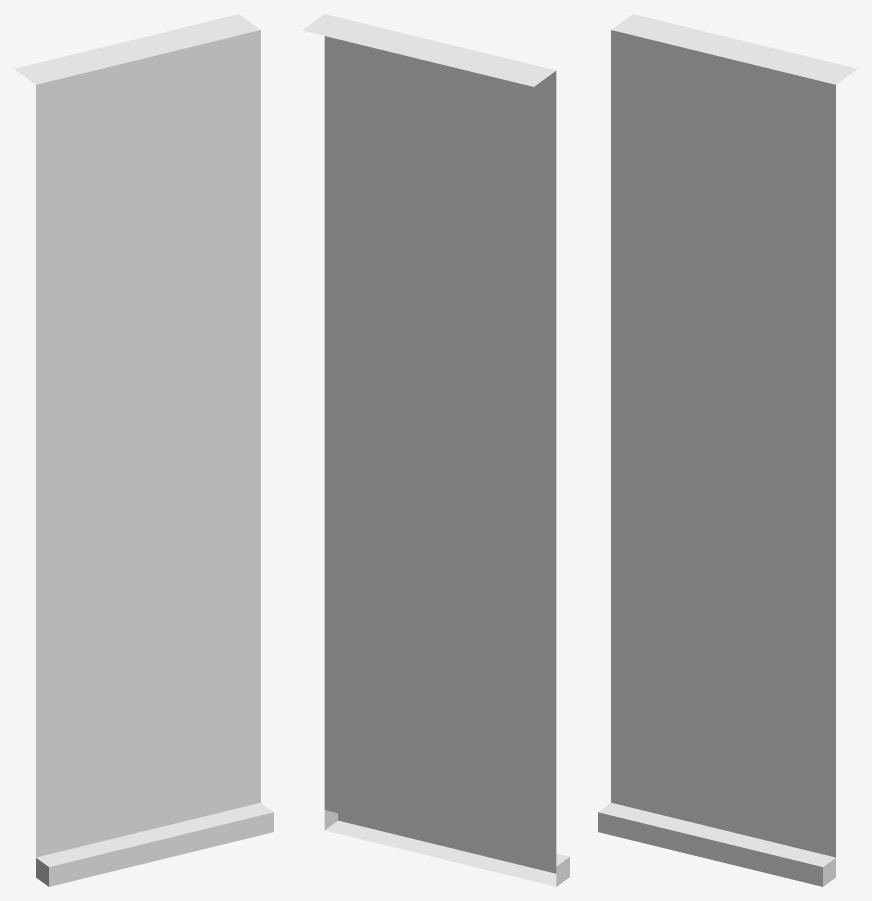
File: 06_wall.FBX
3 views of the same model, side by side, from view 1: azimuth 30°, elevation 25°; view 2: azimuth 150°, elevation 25°; view 3: azimuth 330°, elevation 25° (orthographic). The views are drawn at different scales.
Parts seen in each view (by area): view 1: 06_wall; view 2: 06_wall; view 3: 06_wall.
Boxes of the visible parts, x1,y1,x2,y2 form: 06_wall: (14,14,273,886); 06_wall: (302,14,569,886); 06_wall: (598,14,857,886).
Bounding box in the file's own units: 128 × 432 × 34.48.
